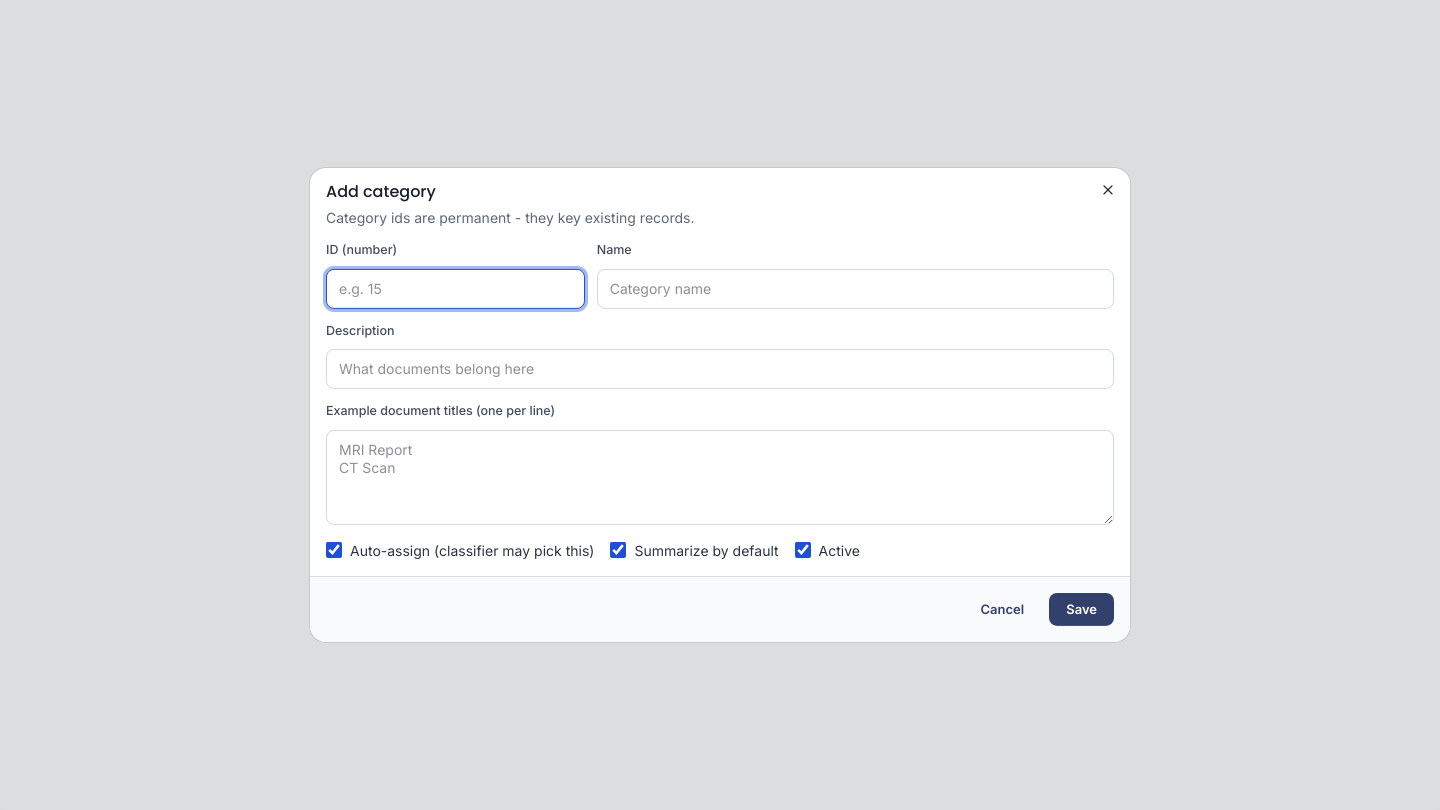
Scenario: CategoryDialog error handling › humanizes a network failure on save
Click the button "Save" at [1082, 610], box x1=1049 y1=593 x2=1114 y2=626
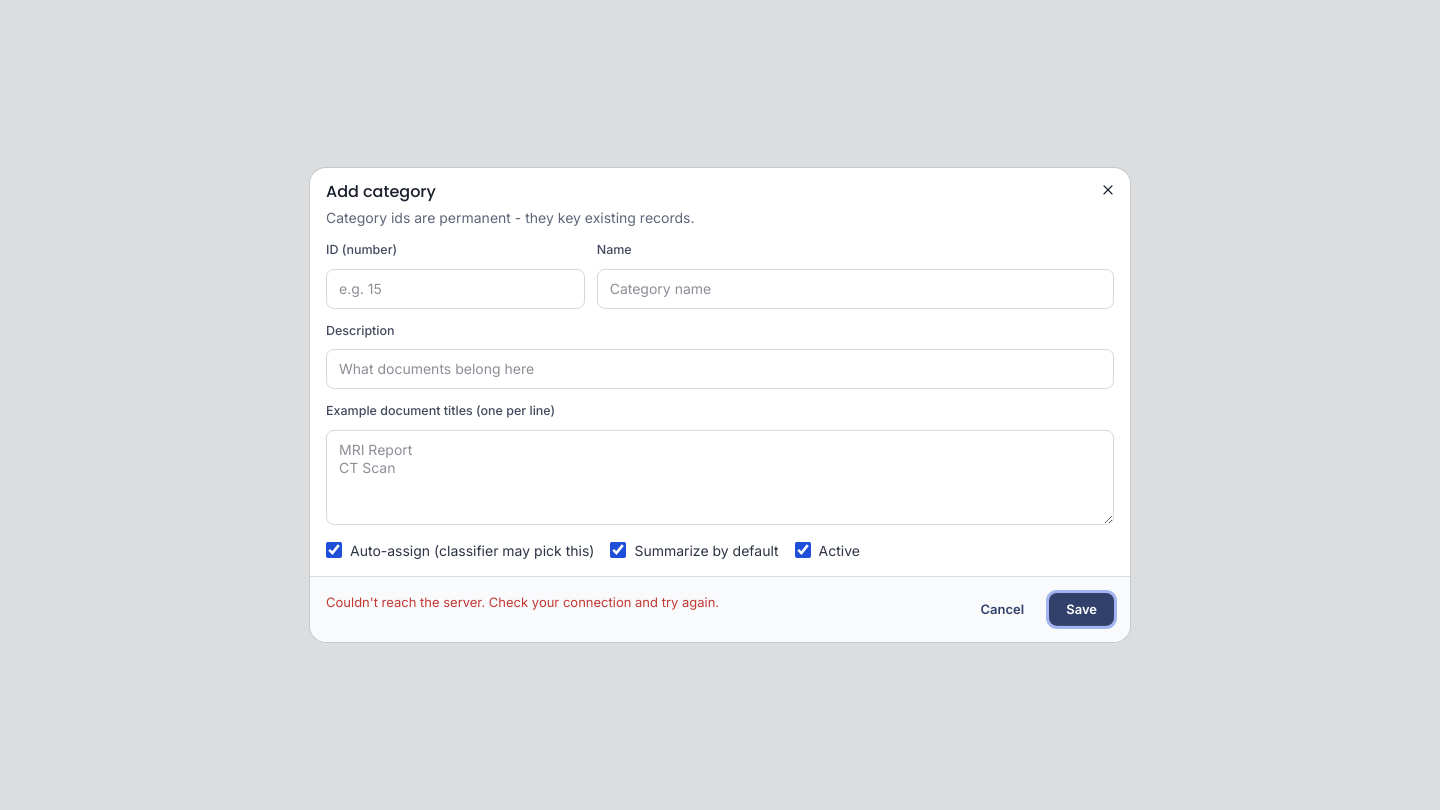
Expected: the text "Couldn't reach the server" is shown, x1=326 y1=594 x2=719 y2=610
